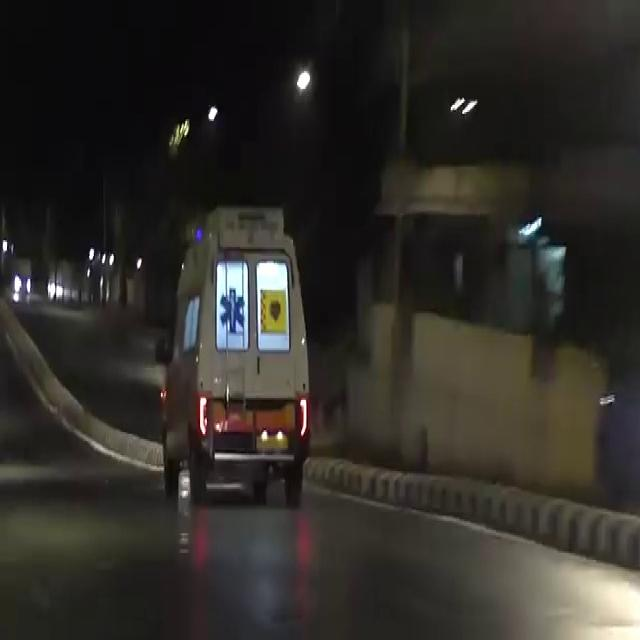ambulance: (162, 218, 322, 470)
